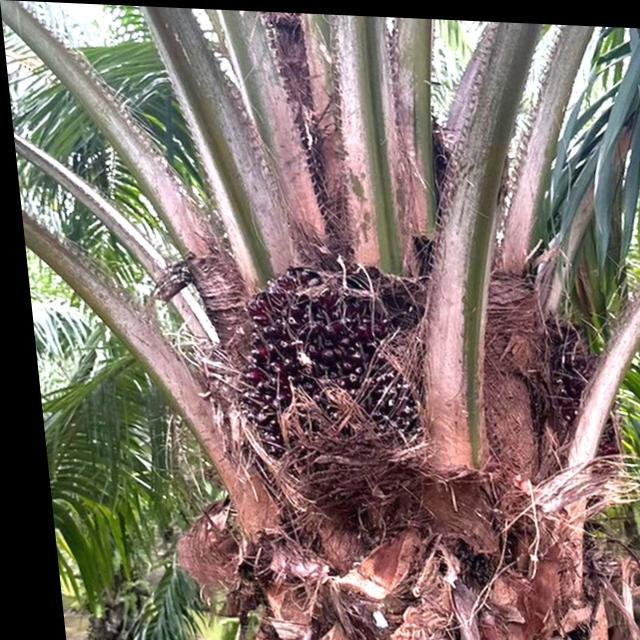ripe: (208, 249, 428, 448)
